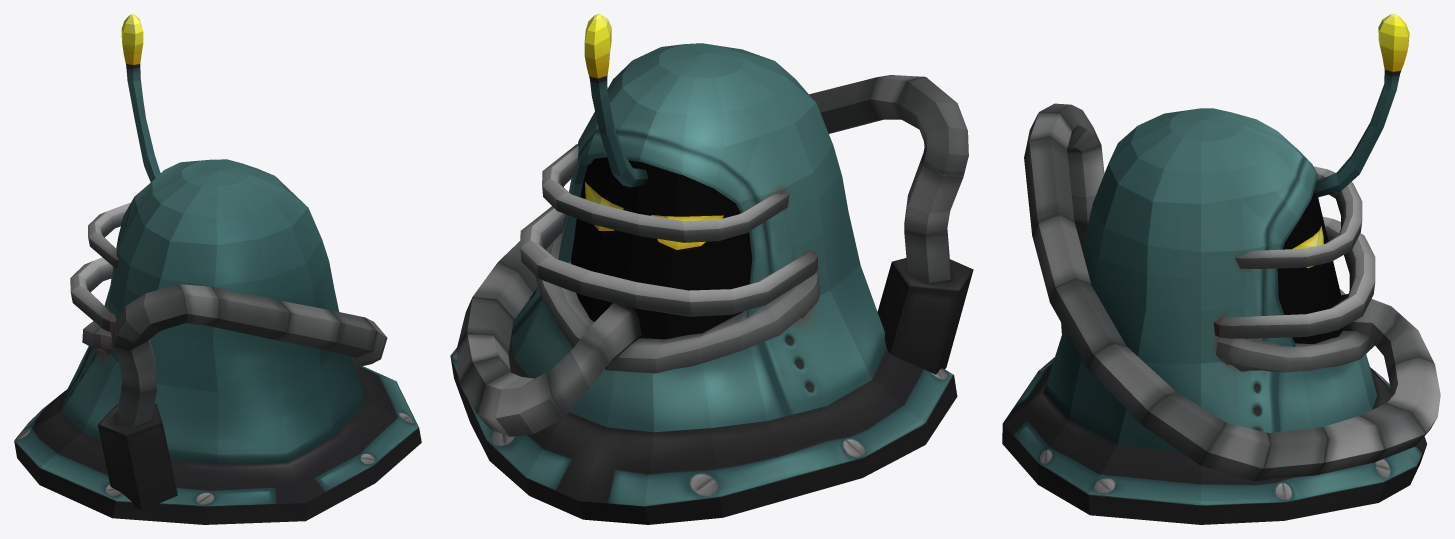
Rendered from deep-diver_head.glb.
3 renders of one model, left to right at view 1: azimuth 30°, elevation 25°; view 2: azimuth 150°, elevation 25°; view 3: azimuth 270°, elevation 25°, orthographic. The views are drawn at different scales.
Parts seen in each view (by area): view 1: GEO-Head, GEO-Hose, GEO-Hose_Base; view 2: GEO-Head, GEO-Hose, GEO-Hose_Base; view 3: GEO-Head, GEO-Hose.
Boxes of the visible parts, x1=… form: GEO-Head: x1=14, y1=14, x2=421, y2=524; GEO-Hose: x1=113, y1=284, x2=387, y2=426; GEO-Hose_Base: x1=98, y1=403, x2=177, y2=509; GEO-Head: x1=450, y1=14, x2=957, y2=524; GEO-Hose: x1=456, y1=75, x2=968, y2=436; GEO-Hose_Base: x1=877, y1=258, x2=973, y2=374; GEO-Head: x1=1002, y1=14, x2=1426, y2=524; GEO-Hose: x1=1024, y1=103, x2=1440, y2=480.
Bounding box in the file's own units: 2.02 × 2.15 × 1.9.
Materials: 1 (1 with a texture image).
